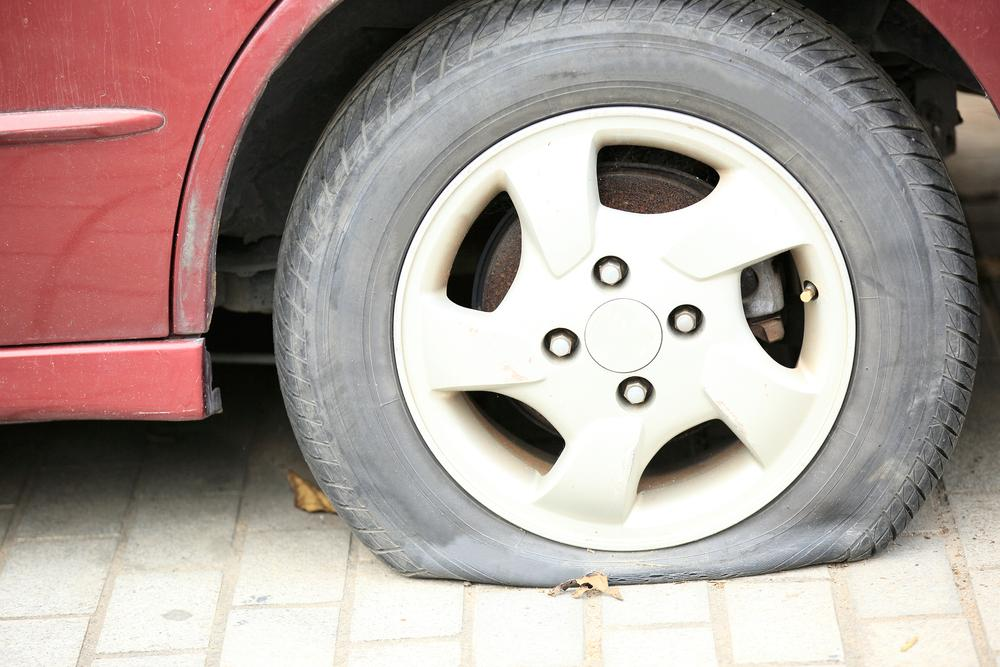tire flat: (272, 0, 979, 589)
